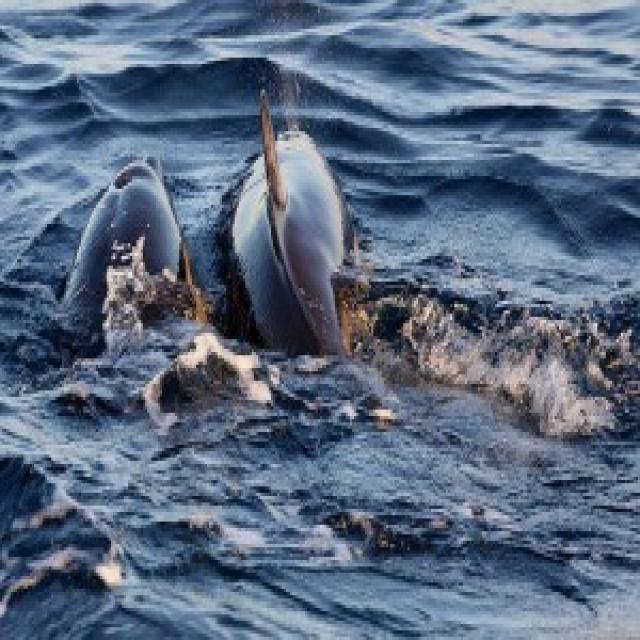Dolphin: (226, 85, 366, 373), (60, 140, 210, 361)
